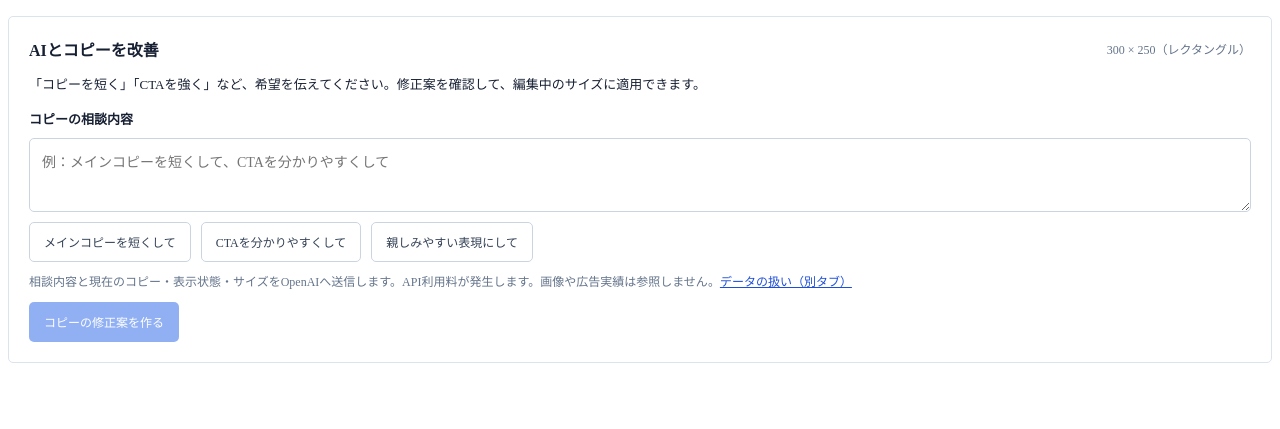
Scenario: aborts in-flight work when switching editor or logging out
The width and height of the screenshot is (1280, 429).
Type "短くして" into the text box labelled "コピーの相談内容" at (640, 175), box left=29, top=138, right=1251, bottom=212
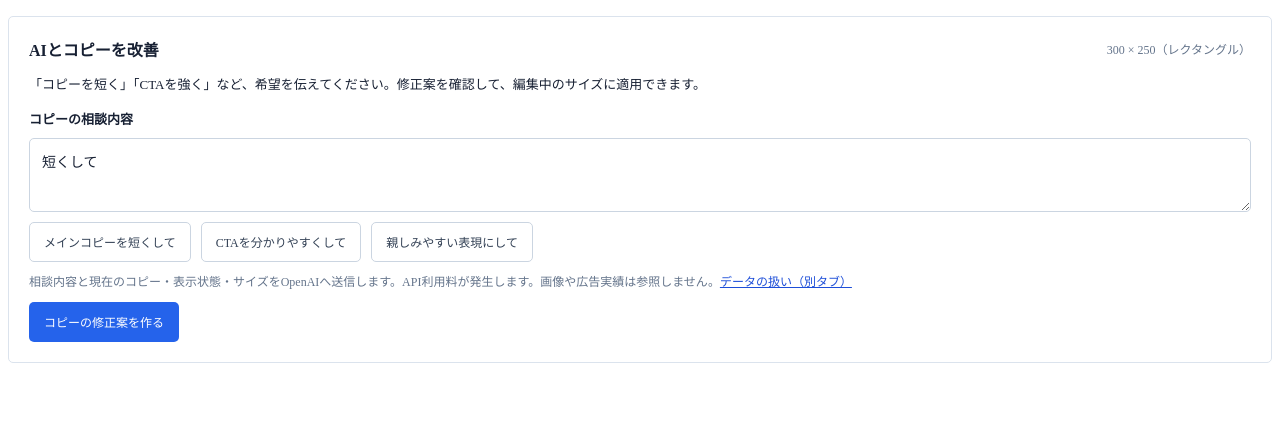
Click the button "コピーの修正案を作る" at (104, 322), box left=29, top=302, right=179, bottom=342
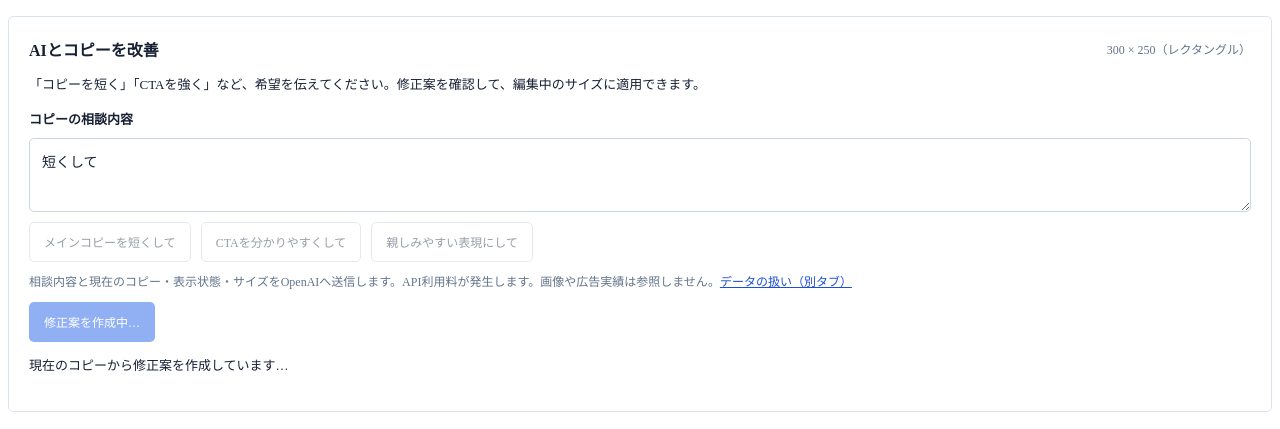
Now the button "修正案を作成中…" is disabled, box left=29, top=302, right=155, bottom=342
